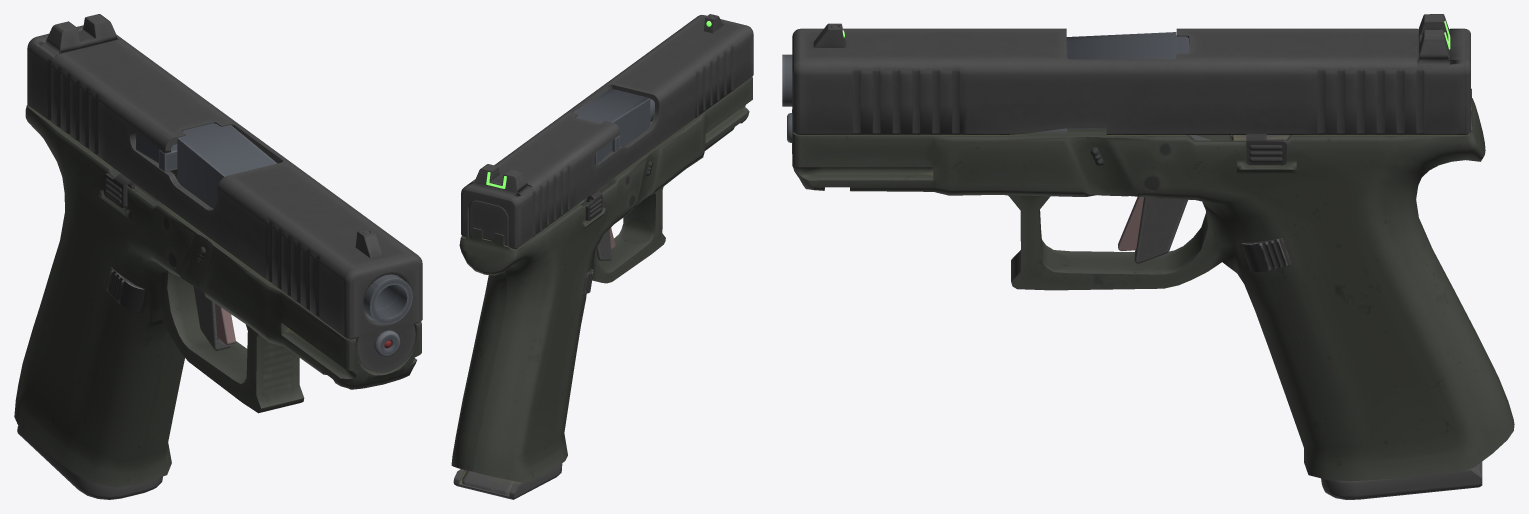
The model's file is pistol.glb.
The picture shows the model from 3 angles, left to right: view 1: azimuth 30°, elevation 25°; view 2: azimuth 150°, elevation 25°; view 3: azimuth 270°, elevation 25°; orthographic projection. The views are drawn at different scales.
Parts seen in each view (by area): view 1: rig_setup_0001:rig_setup_0001:sight_glow_rig_setup_0001:rig_; view 2: rig_setup_0001:rig_setup_0001:sight_glow_rig_setup_0001:rig_; view 3: rig_setup_0001:rig_setup_0001:sight_glow_rig_setup_0001:rig_.
Part boxes in pixels (left/top/right/bottom): rig_setup_0001:rig_setup_0001:sight_glow_rig_setup_0001:rig_: left=14, top=14, right=422, bottom=499; rig_setup_0001:rig_setup_0001:sight_glow_rig_setup_0001:rig_: left=451, top=14, right=753, bottom=499; rig_setup_0001:rig_setup_0001:sight_glow_rig_setup_0001:rig_: left=782, top=14, right=1514, bottom=499.
Size of the model in its own units: 0.0355 by 0.143 by 0.2071.
Materials: 2 (1 with a texture image).
